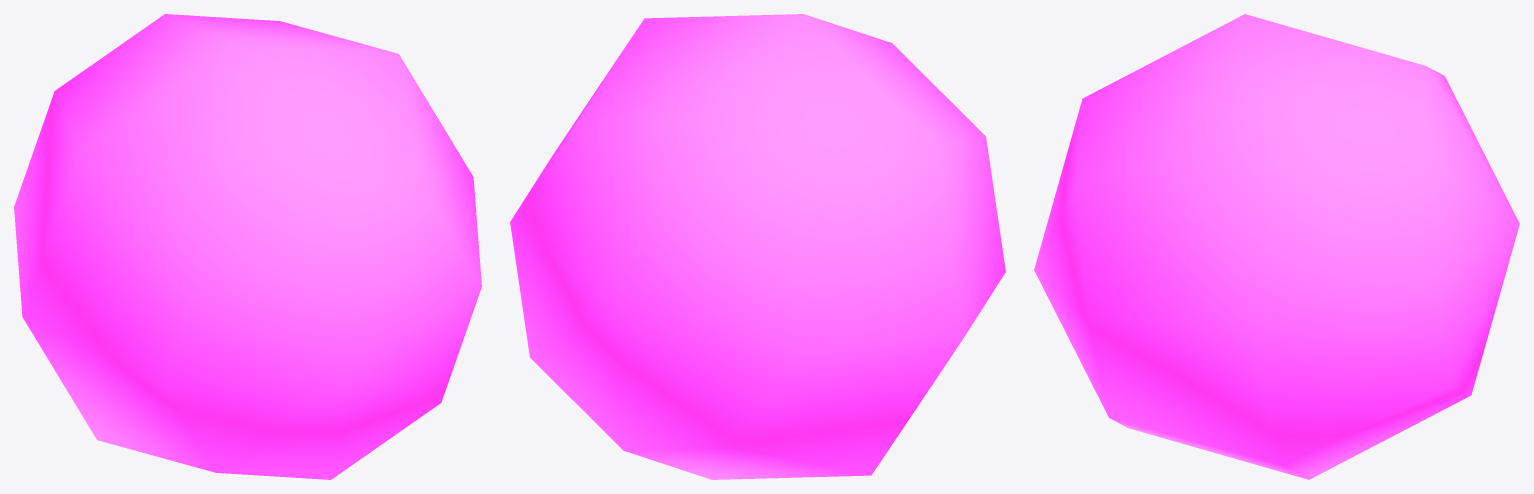
Rendered from Ribosome.FBX.
The picture shows the model from 3 angles, left to right: view 1: azimuth 30°, elevation 25°; view 2: azimuth 150°, elevation 25°; view 3: azimuth 270°, elevation 25°; orthographic projection. The views are drawn at different scales.
Visible parts, largest first — view 1: Ribosome; view 2: Ribosome; view 3: Ribosome.
Boxes of the visible parts, x1,y1,x2,y2 form: Ribosome: [14, 14, 481, 479]; Ribosome: [510, 14, 1005, 479]; Ribosome: [1034, 14, 1519, 479].
Size of the model in its own units: 0.5656 by 0.5626 by 0.5648.
